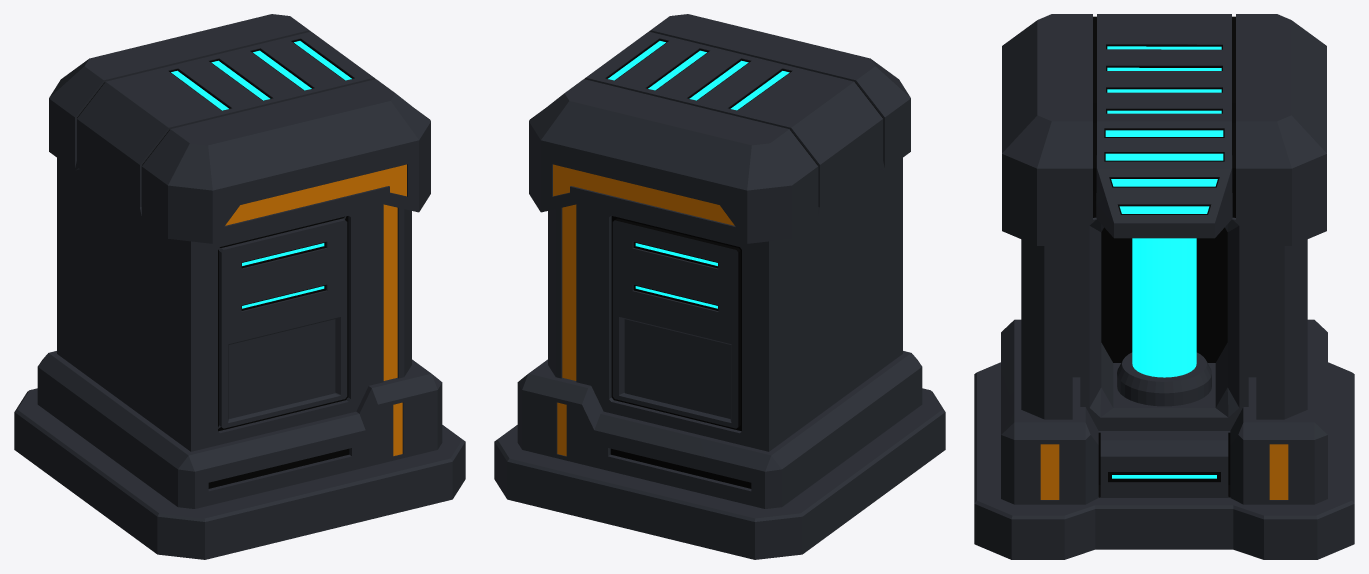
Rendered from SM_Core_Processor.fbx.
3 renders of one model, left to right at view 1: azimuth 30°, elevation 25°; view 2: azimuth 150°, elevation 25°; view 3: azimuth 270°, elevation 25°, orthographic. The views are drawn at different scales.
Visible parts, largest first — view 1: SM_Core_Processor; view 2: SM_Core_Processor; view 3: SM_Core_Processor.
Boxes of the visible parts, x1,y1,x2,y2 form: SM_Core_Processor: (14, 14, 465, 559); SM_Core_Processor: (494, 14, 945, 559); SM_Core_Processor: (974, 14, 1354, 559).
Bounding box in the file's own units: 83.42 × 95.52 × 80.
